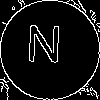N: (25, 25, 63, 72)
